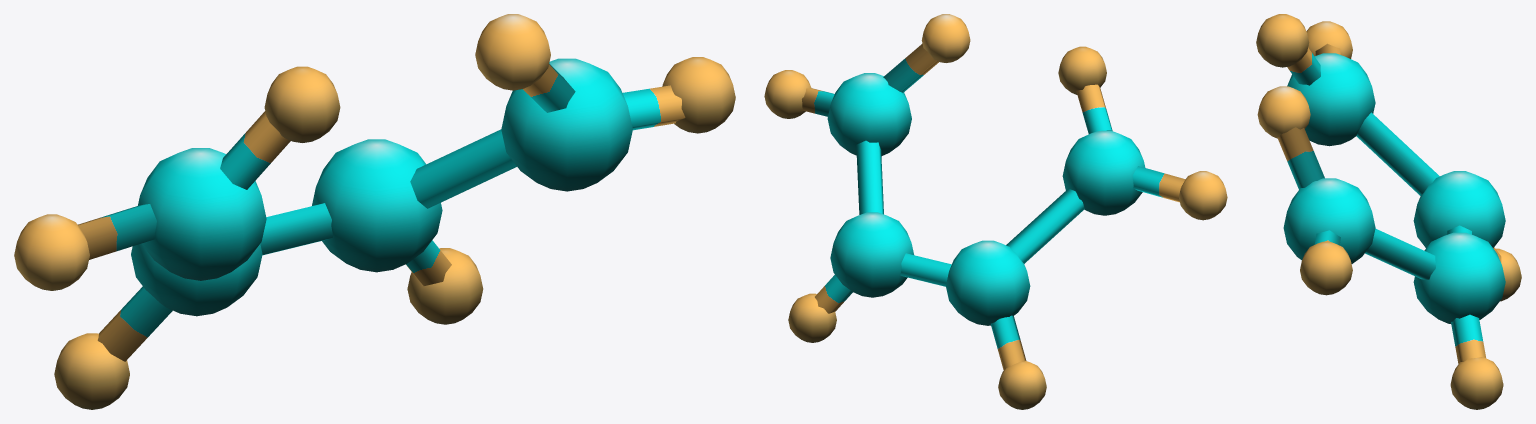
File: Butadiene.dae
3 views of the same model, side by side, from view 1: azimuth 30°, elevation 25°; view 2: azimuth 150°, elevation 25°; view 3: azimuth 270°, elevation 25° (orthographic). The views are drawn at different scales.
Parts seen in each view (by area): view 1: polySurface1; view 2: polySurface1; view 3: polySurface1.
Part boxes in pixels (left/top/right/bottom): polySurface1: left=14, top=14, right=735, bottom=409; polySurface1: left=764, top=14, right=1227, bottom=409; polySurface1: left=1256, top=14, right=1521, bottom=409.
Size of the model in its own units: 4.43 by 2.58 by 2.05.
Materials: 1 (1 with a texture image).
